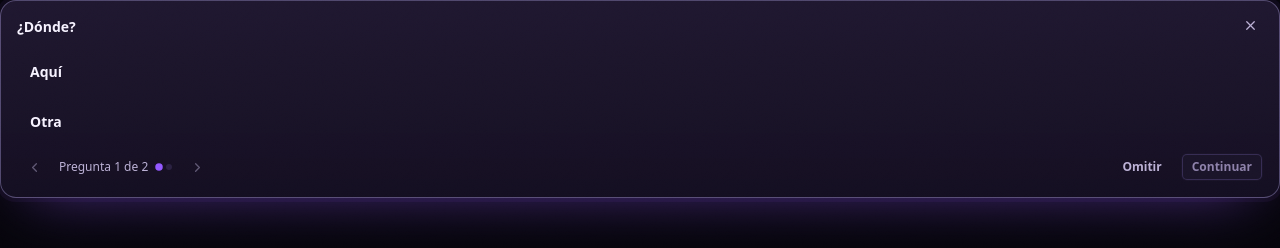
going back comes in from the other side (#63)
Click the radio button labelled "Aquí" at (46, 72), box 17,49 -> 1263,95
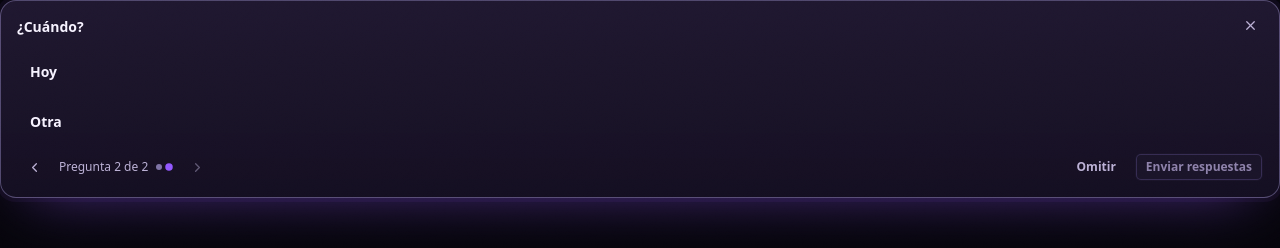
Now the element showing "Hoy Otra" has attribute data-direction="forward", box 17,49 -> 1263,145
Click the button named "Pregunta anterior" at (34, 167), box 17,155 -> 51,179
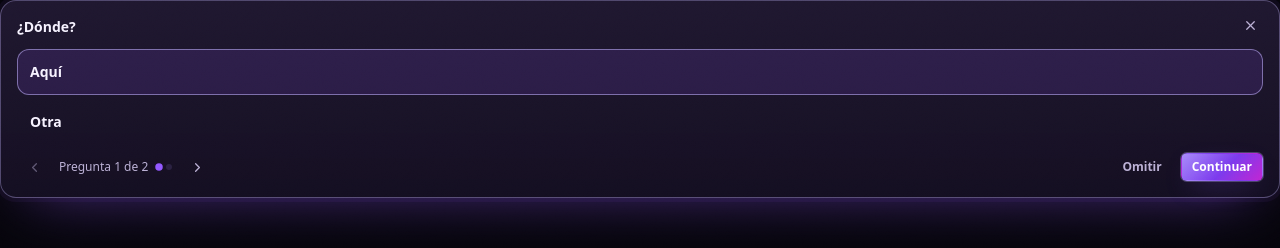
Now the heading "¿Dónde?" is shown, box 17,17 -> 76,37
